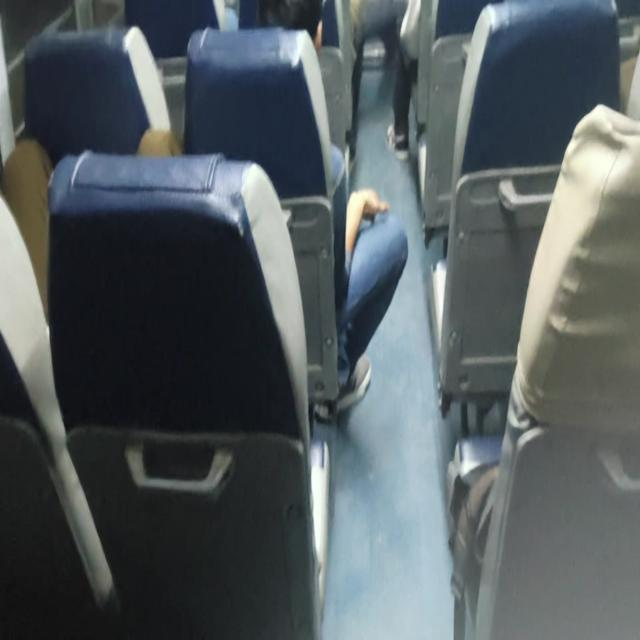person: (229, 0, 339, 72)
